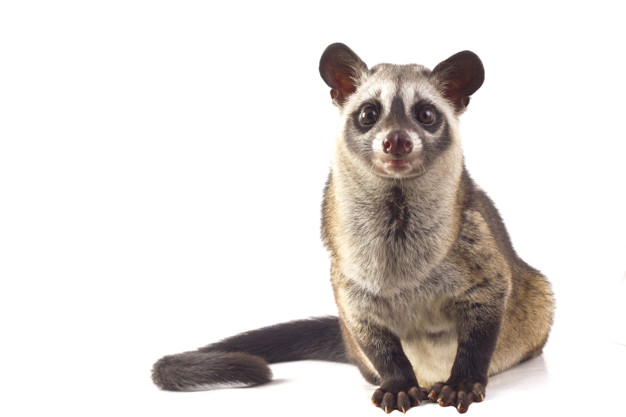Civet: (141, 33, 560, 416)
